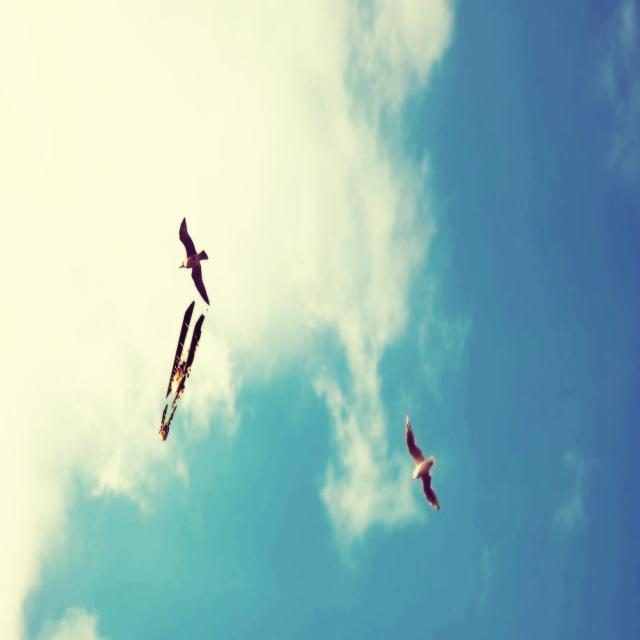airplane: (158, 300, 205, 441), (405, 413, 440, 511)
